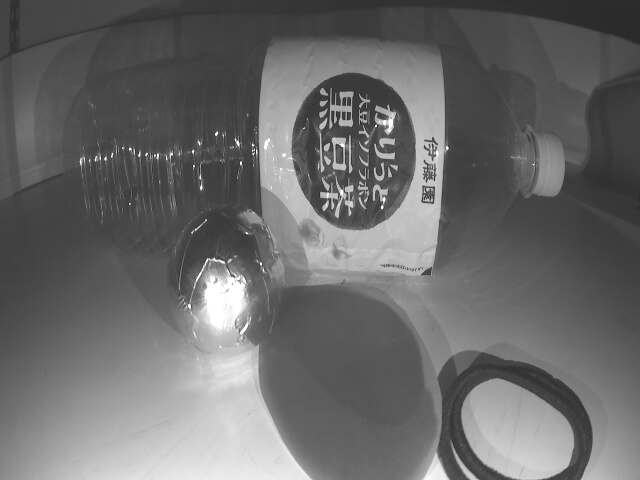Live: (167, 204, 282, 360)
